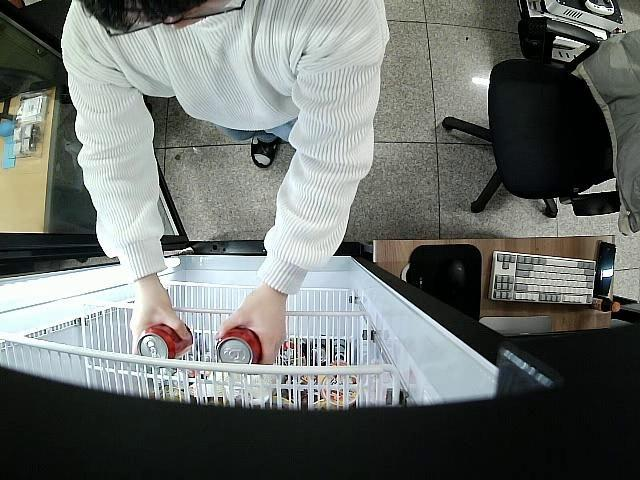11_cocaColaZero: (137, 322, 194, 360), (216, 325, 264, 364)
